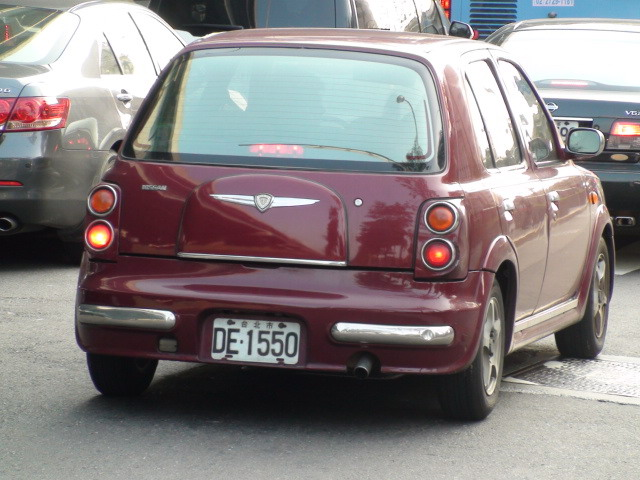plate: (210, 311, 302, 370)
